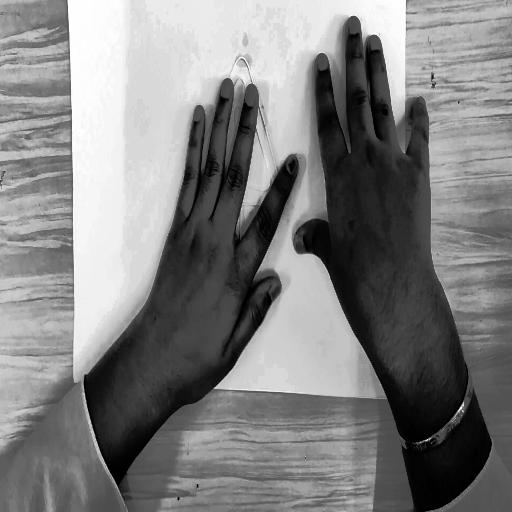bottom_left: (67, 380, 78, 394)
bottom_right: (399, 385, 411, 407)
signboard: (182, 39, 291, 328)
